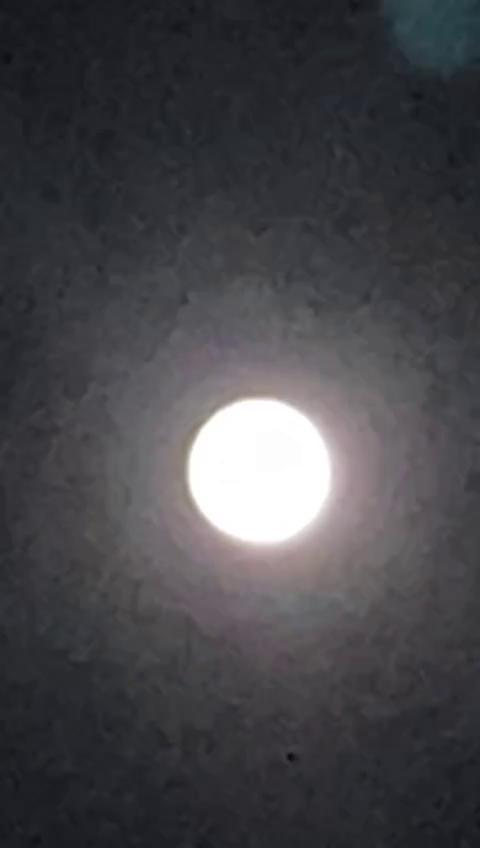moon: (158, 394, 336, 584)
